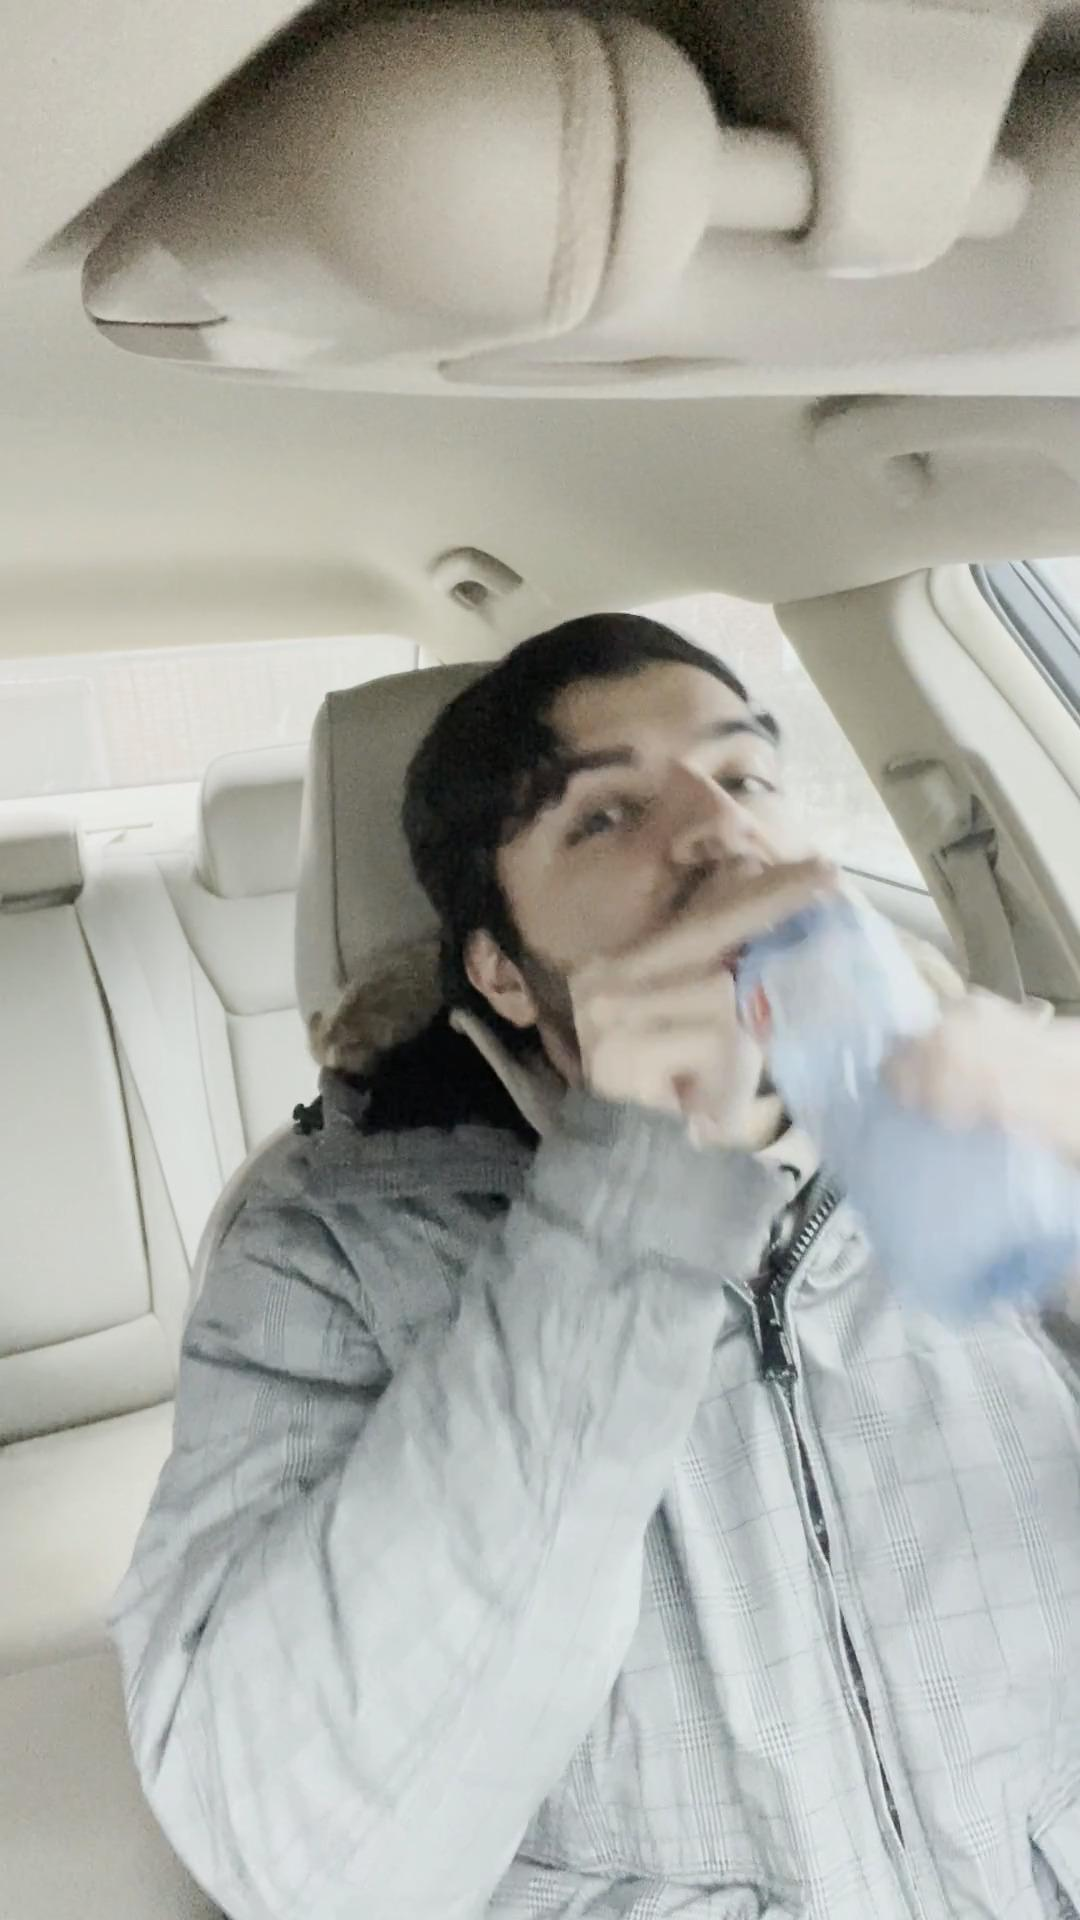drinking: (715, 851, 1065, 1340)
no_seatbelt: (620, 1225, 1080, 1920)
